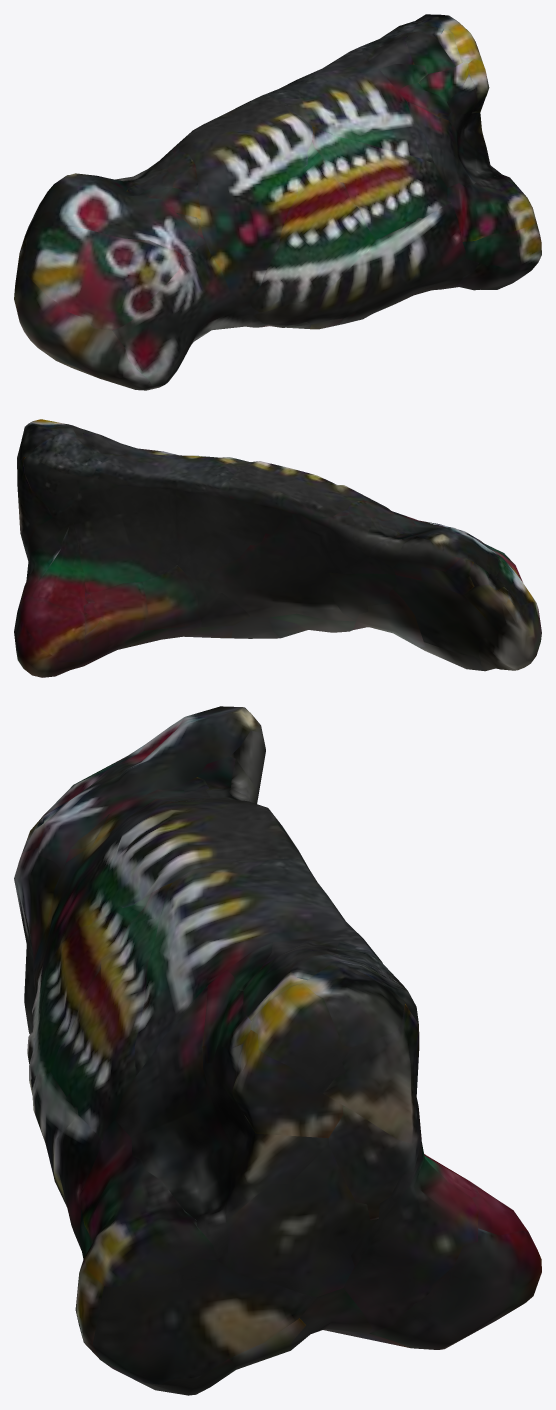
Rendered from hall.glb.
3 renders of one model, top to bottom at view 1: azimuth 30°, elevation 25°; view 2: azimuth 150°, elevation 25°; view 3: azimuth 270°, elevation 25°, orthographic. The views are drawn at different scales.
Bounding box in the file's own units: 0.6316 × 0.2854 × 0.3303.
Materials: 1 (1 with a texture image).
